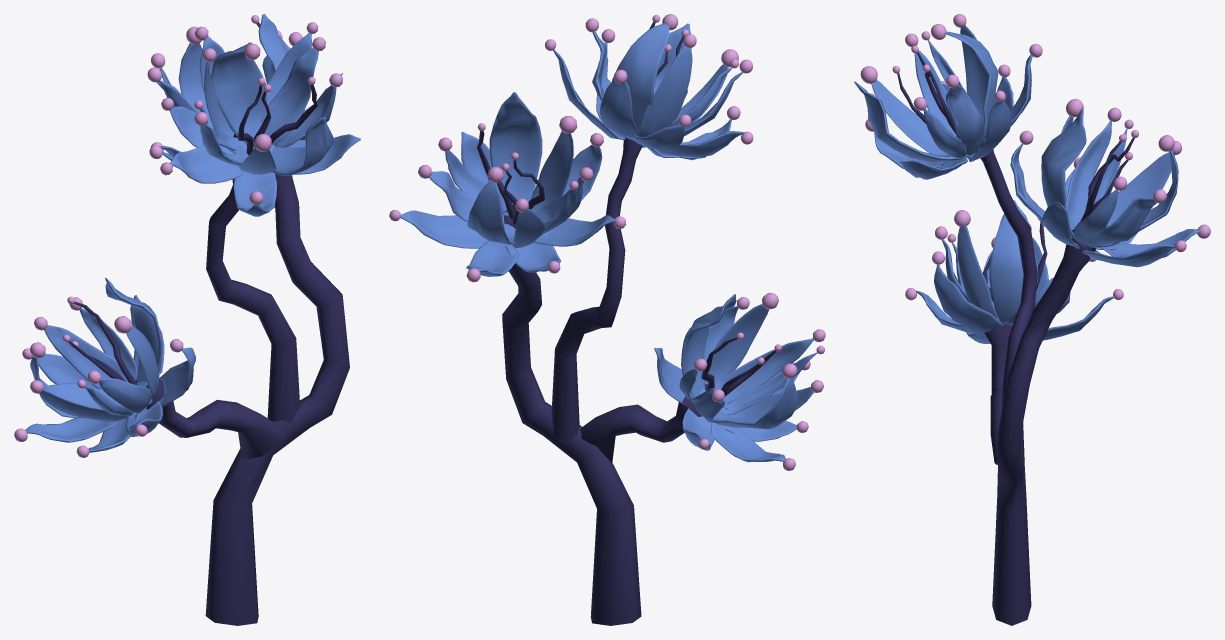
Rendered from Bollenbloem_1.fbx.
3 renders of one model, left to right at view 1: azimuth 30°, elevation 25°; view 2: azimuth 150°, elevation 25°; view 3: azimuth 270°, elevation 25°, orthographic. The views are drawn at different scales.
Parts seen in each view (by area): view 1: pCylinder9; view 2: pCylinder9; view 3: pCylinder9.
Boxes of the visible parts, bbox=[...] form: pCylinder9: bbox=[14, 14, 360, 625]; pCylinder9: bbox=[389, 14, 825, 625]; pCylinder9: bbox=[854, 14, 1210, 625].
Bounding box in the file's own units: 0.1002 × 0.1646 × 0.0917.
